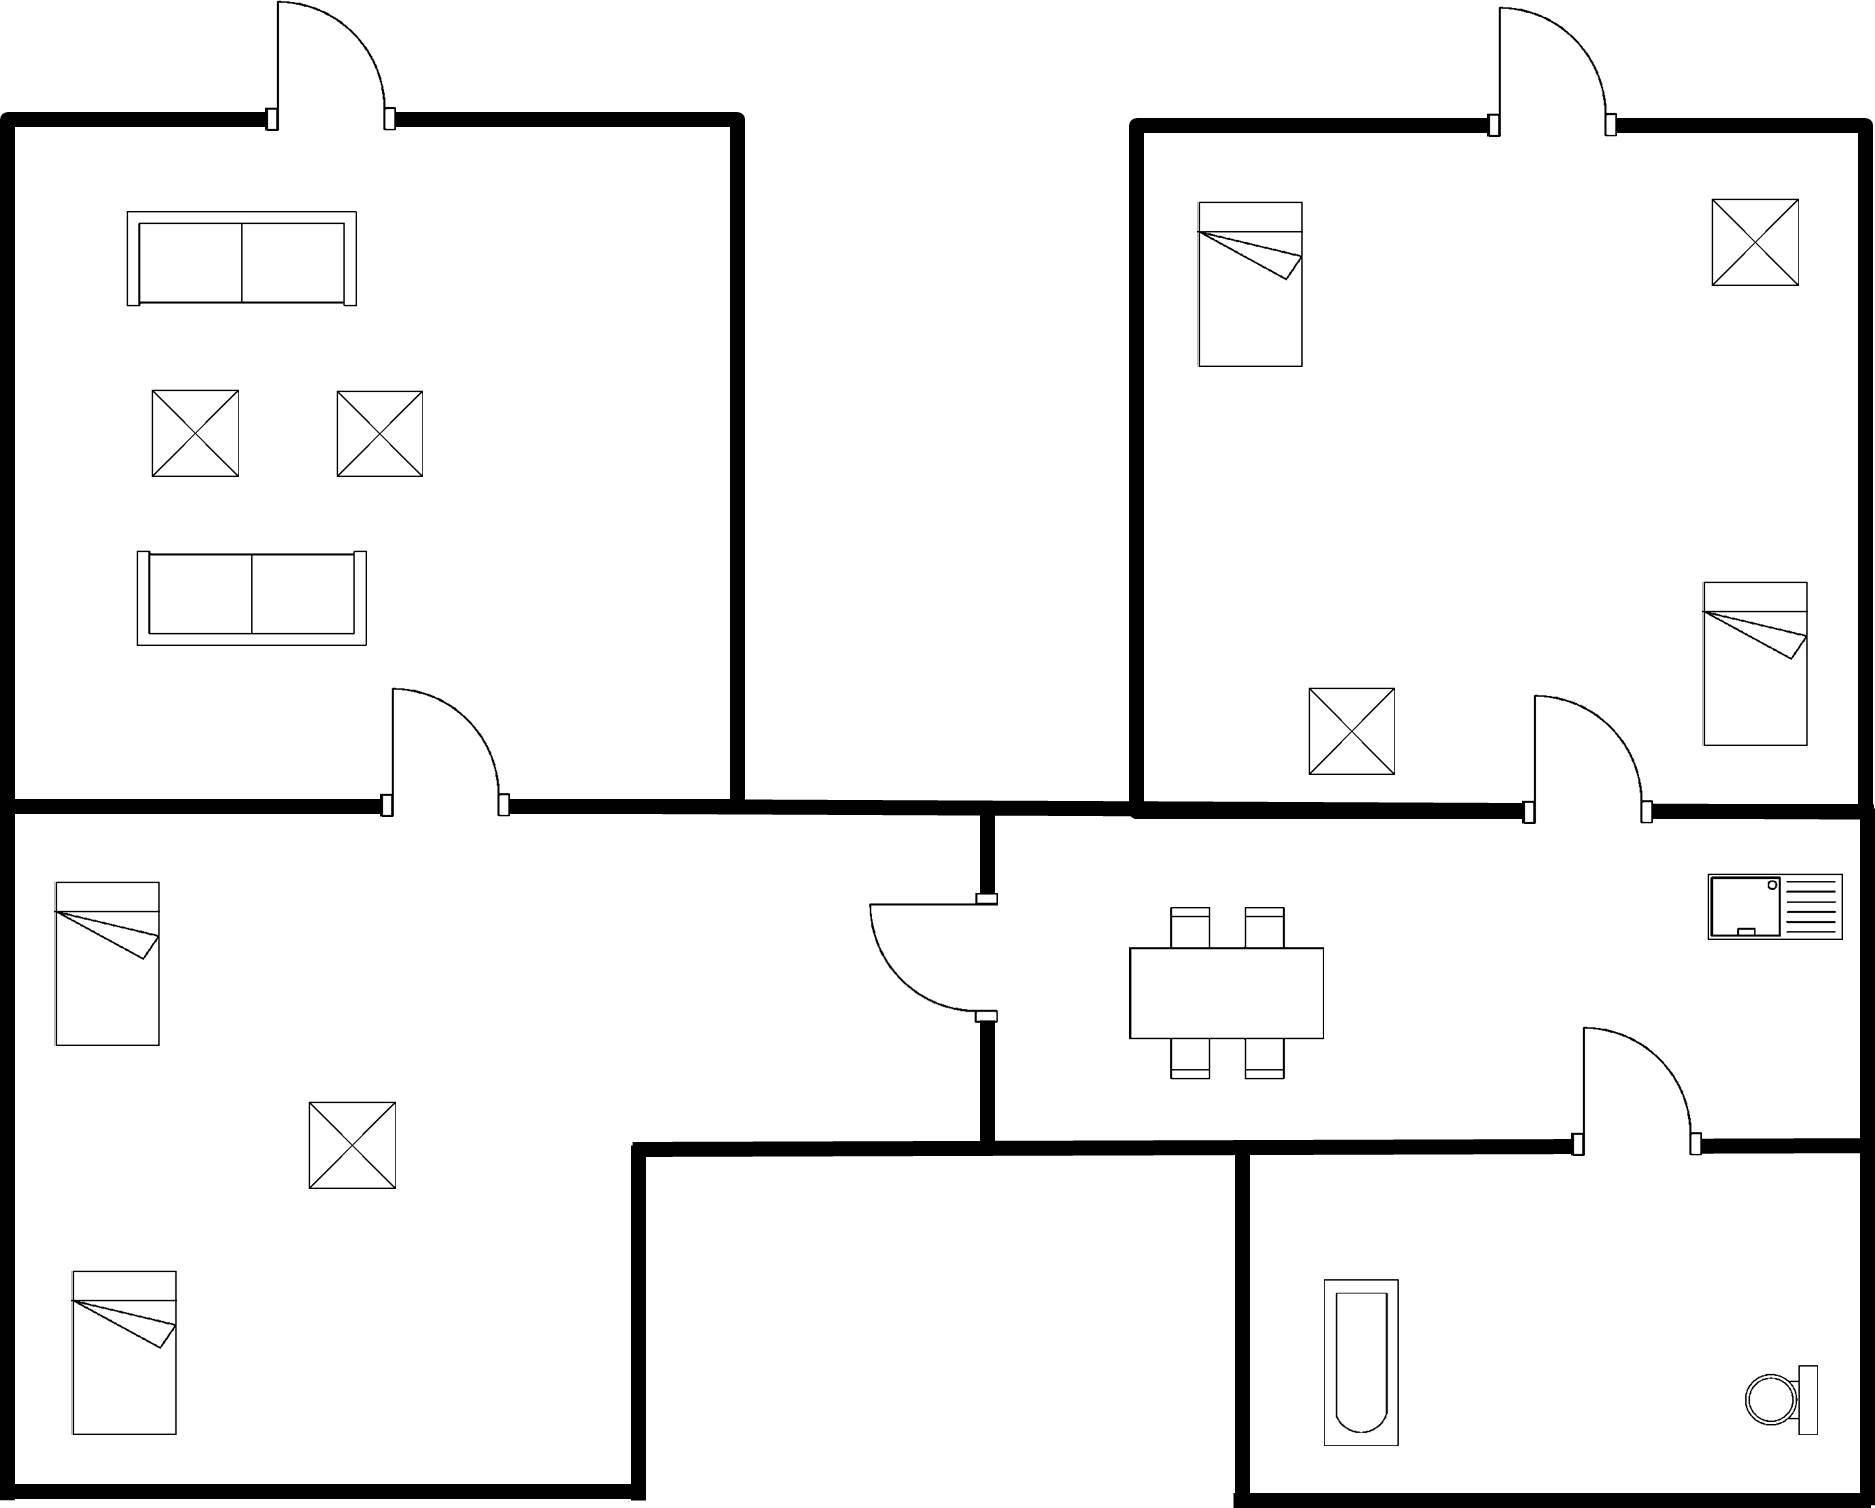bed: (1687, 569, 1823, 756), (1181, 188, 1311, 379), (57, 1259, 188, 1443), (40, 872, 169, 1057)
dining_table: (1115, 899, 1340, 1094)
sink: (1697, 863, 1853, 949)
sofa: (112, 195, 371, 322), (129, 539, 375, 665)
toilet: (1735, 1353, 1833, 1448)
tub: (1306, 1265, 1410, 1463)
